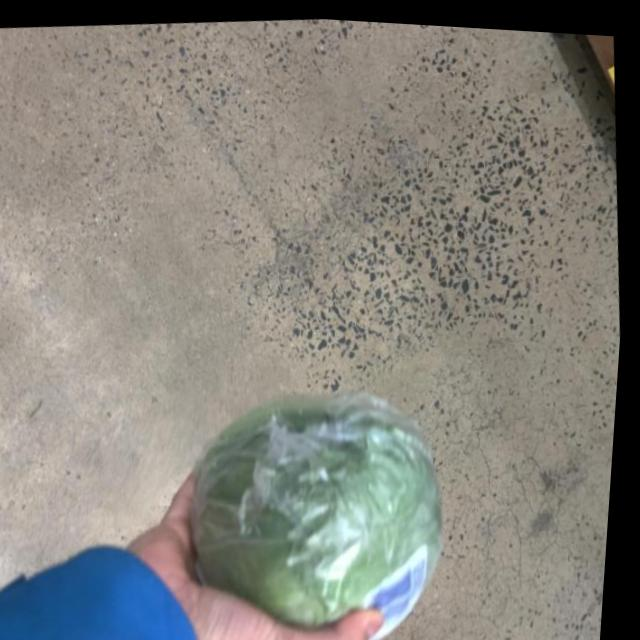Cabbage: (168, 362, 481, 640)
